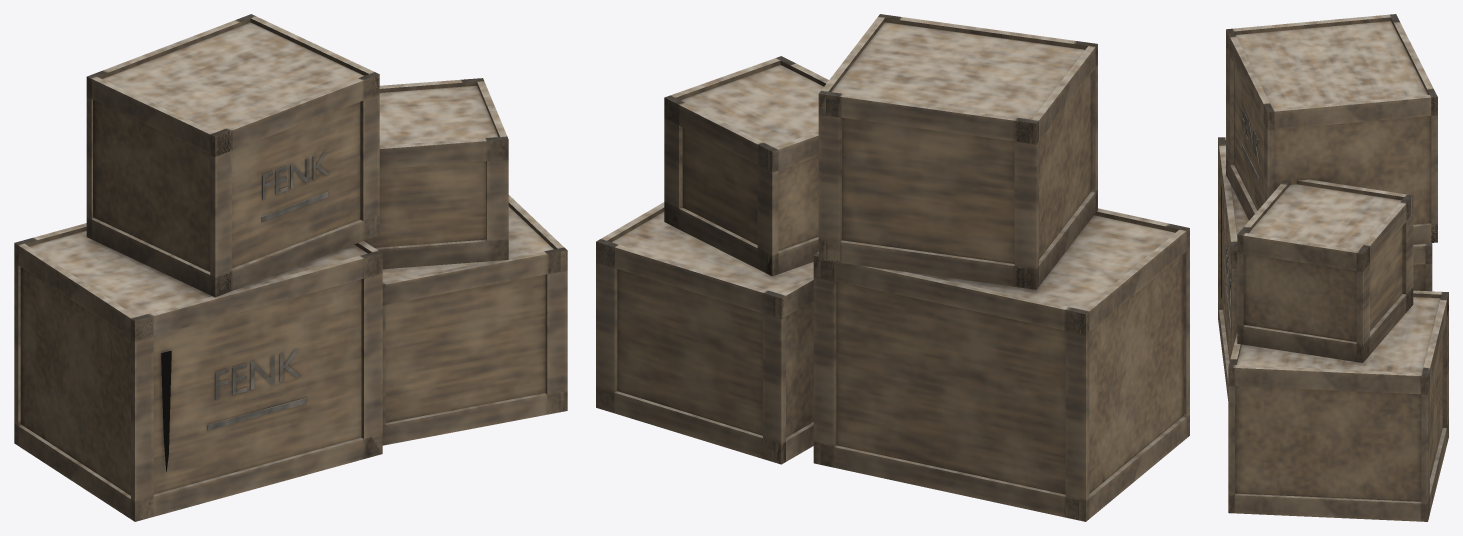
The model's file is crate_stack.fbx.
3 views of the same model, side by side, from view 1: azimuth 30°, elevation 25°; view 2: azimuth 150°, elevation 25°; view 3: azimuth 270°, elevation 25° (orthographic). The views are drawn at different scales.
Visible parts, largest first — view 1: Body; view 2: Body; view 3: Body.
Part boxes in pixels (<box>): Body: <box>14,14,567,521</box>; Body: <box>596,14,1189,521</box>; Body: <box>1218,14,1448,521</box>.
Bounding box in the file's own units: 7.32 × 5.4 × 3.45.
1 material, 1 textured.
